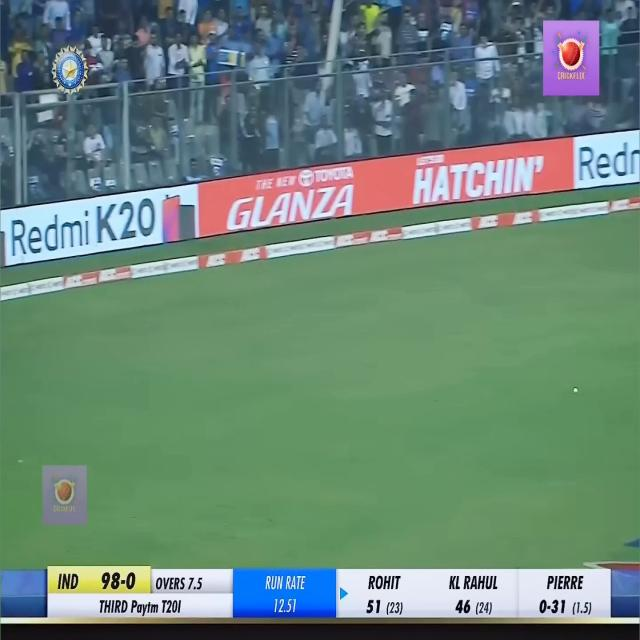fully_visible: (129, 596, 160, 622)
